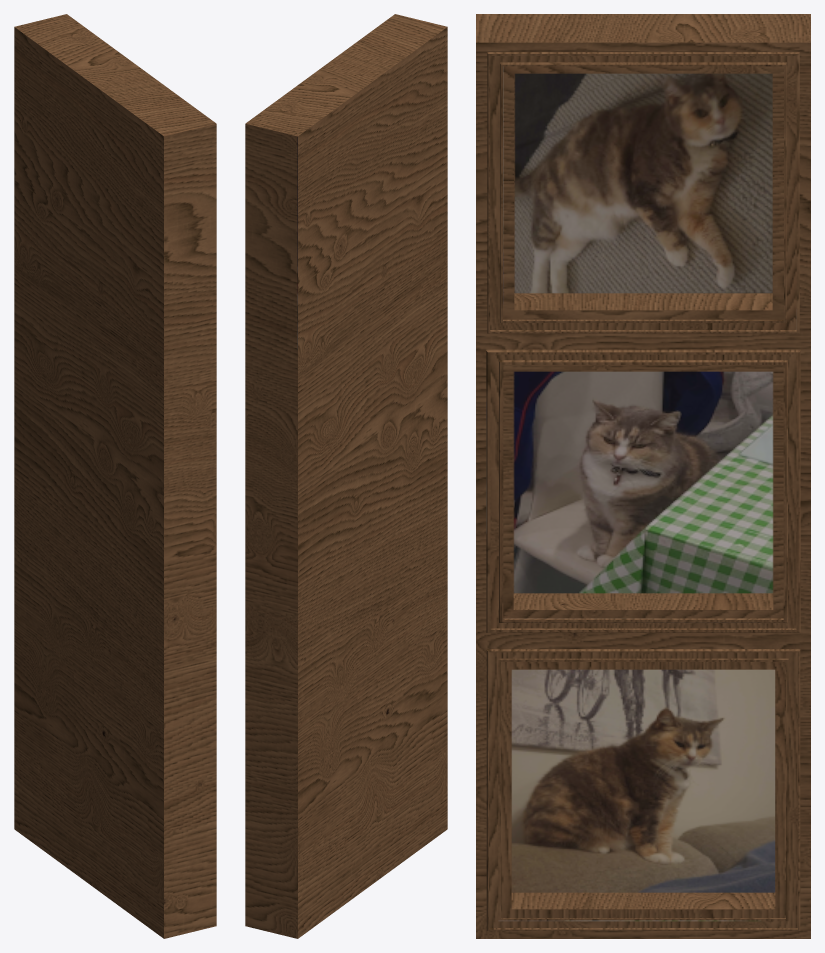
The model's file is 3taylercatpictureframes.fbx.
The picture shows the model from 3 angles, left to right: view 1: azimuth 30°, elevation 25°; view 2: azimuth 150°, elevation 25°; view 3: azimuth 270°, elevation 25°; orthographic projection. The views are drawn at different scales.
Visible parts, largest first — view 1: Cube.006; view 2: Cube.006; view 3: Cube.006.
Part boxes in pixels (bbox=[...]): Cube.006: bbox=[14, 14, 216, 938]; Cube.006: bbox=[245, 14, 447, 938]; Cube.006: bbox=[476, 14, 810, 938].
Size of the model in its own units: 2.3 by 31.77 by 10.76.
